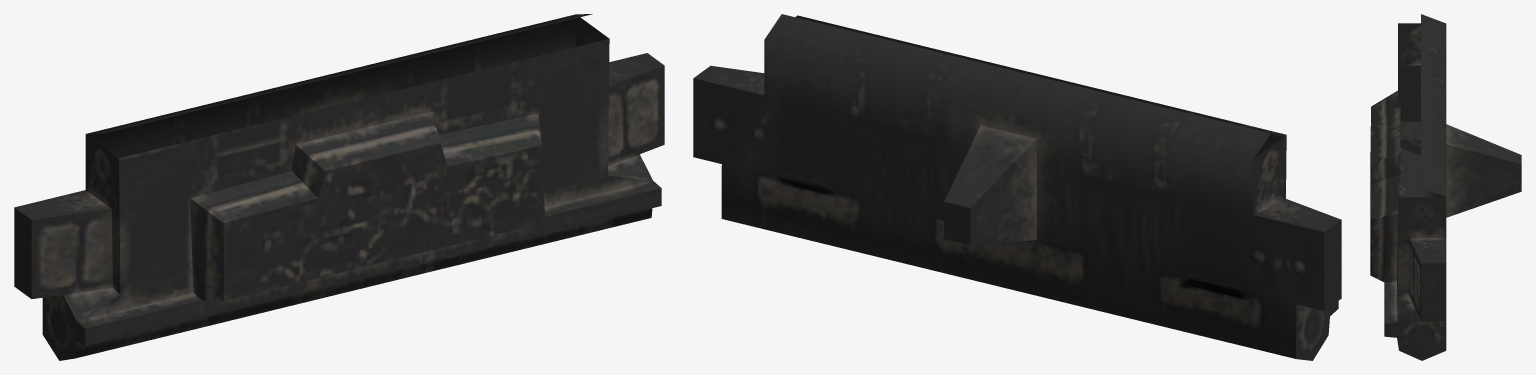
3 renders of one model, left to right at view 1: azimuth 30°, elevation 25°; view 2: azimuth 150°, elevation 25°; view 3: azimuth 270°, elevation 25°, orthographic. The views are drawn at different scales.
Visible parts, largest first — view 1: set_0_group_0; view 2: set_0_group_0; view 3: set_0_group_0.
Boxes of the visible parts, left/top/right/bottom form: set_0_group_0: left=14, top=14, right=664, bottom=360; set_0_group_0: left=693, top=14, right=1341, bottom=360; set_0_group_0: left=1370, top=14, right=1521, bottom=360.
Size of the model in its own units: 0.7012 by 0.2301 by 0.1998.
1 material, 1 textured.
